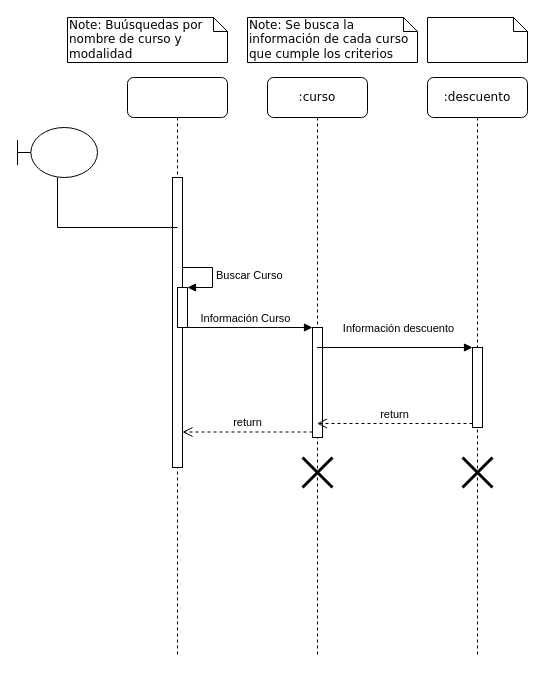
Some shapes in this 545 by 675 pixel diagram are drawn without their labels. The centre of each missing label's shape, as x and y in pixels:
":curso[]" goes at point (177, 367).
"Note: Retorna la información del descuento asignado" goes at point (477, 39).
